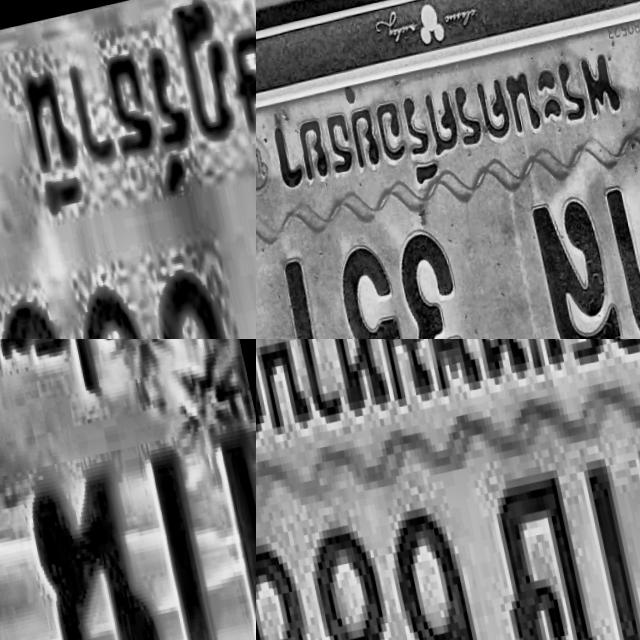license-plate: (256, 0, 640, 339), (256, 339, 640, 640), (0, 0, 256, 339), (0, 339, 256, 640)
